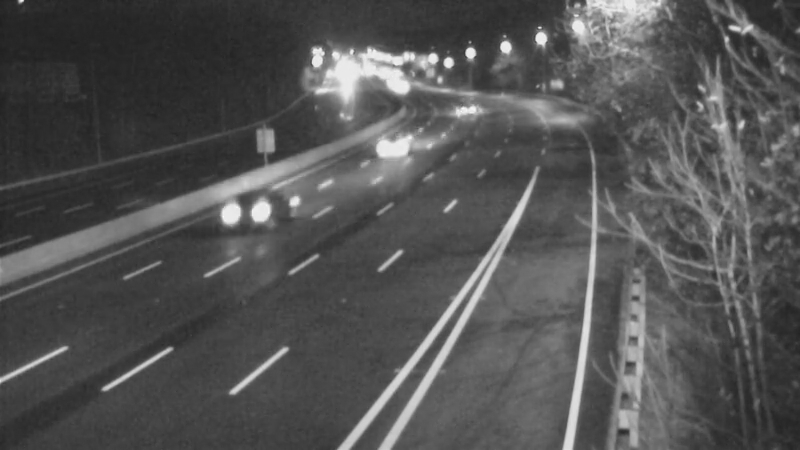vehicle: (213, 170, 293, 250), (374, 62, 424, 112), (439, 82, 489, 132), (373, 118, 423, 168)
